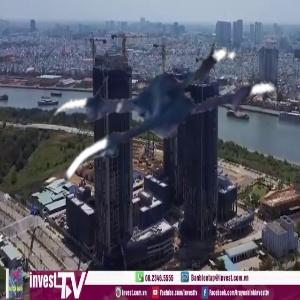drone: (53, 18, 278, 243)
